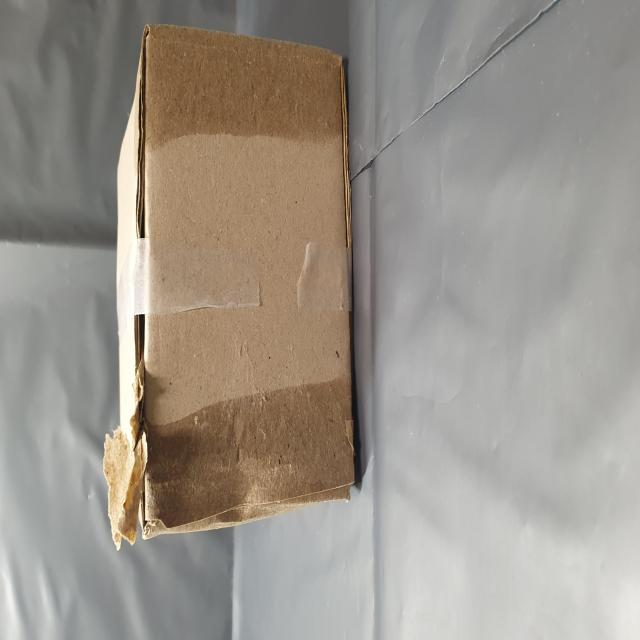wet: (59, 226, 151, 634), (263, 234, 344, 640)
